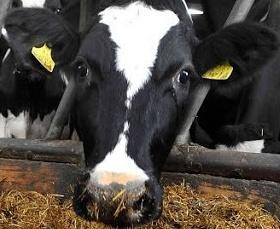muzzles: (68, 171, 165, 227)
